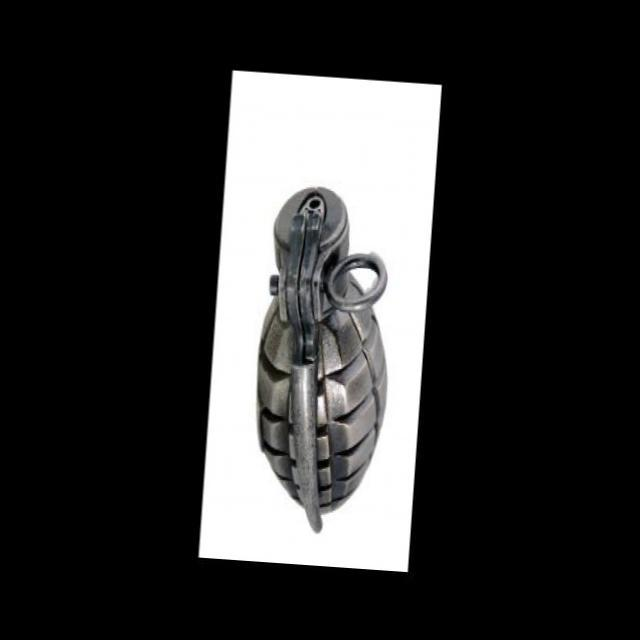grenade: (245, 168, 408, 550)
